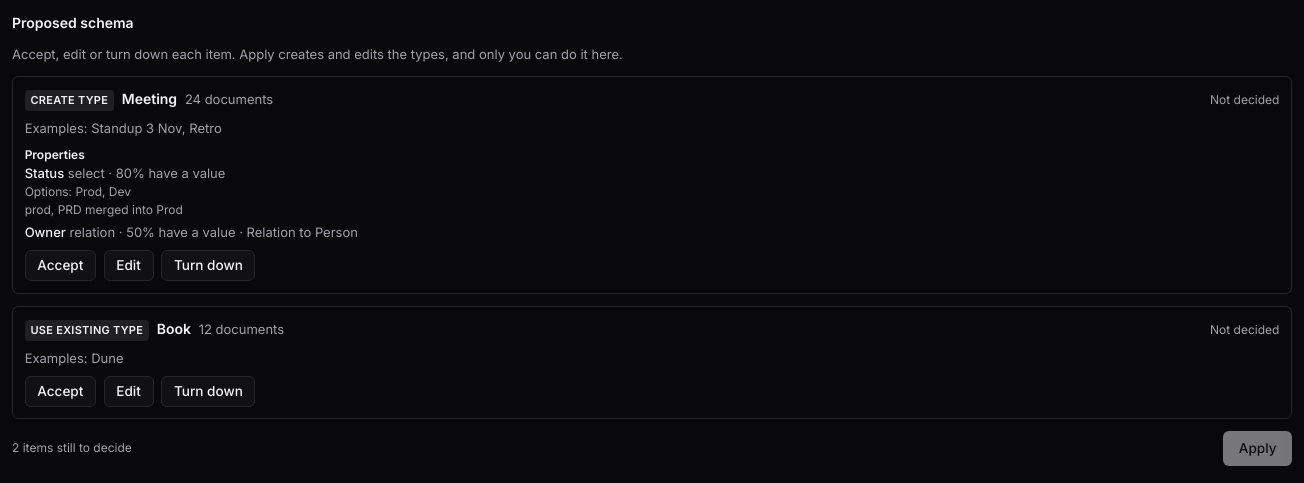
Test: ProposalStep › shows evidence and enables Apply only when every item is decided
The width and height of the screenshot is (1304, 483).
Later steps or results of the test are not shown.
Expected: the button "Apply" is disabled, [1223,431,1292,466]
Click the button "Accept" below "Create type" at x=60, y=266, box [25,250,96,281]
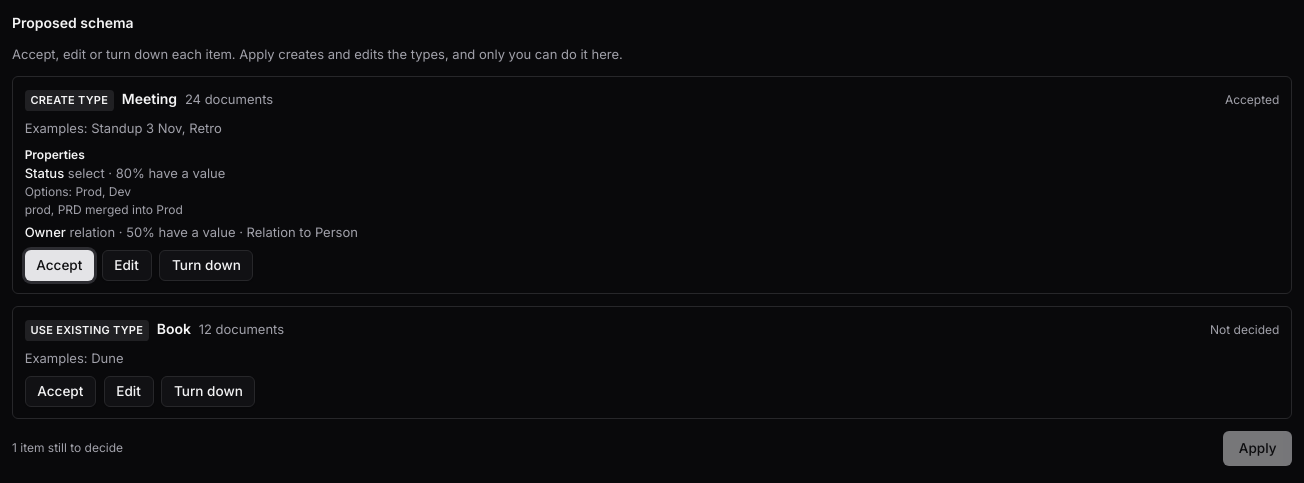
Expected: the button "Apply" is disabled, [1223,431,1292,466]
Click the button "Turn down" below "Use existing type" at x=208, y=391, box [161,376,255,407]
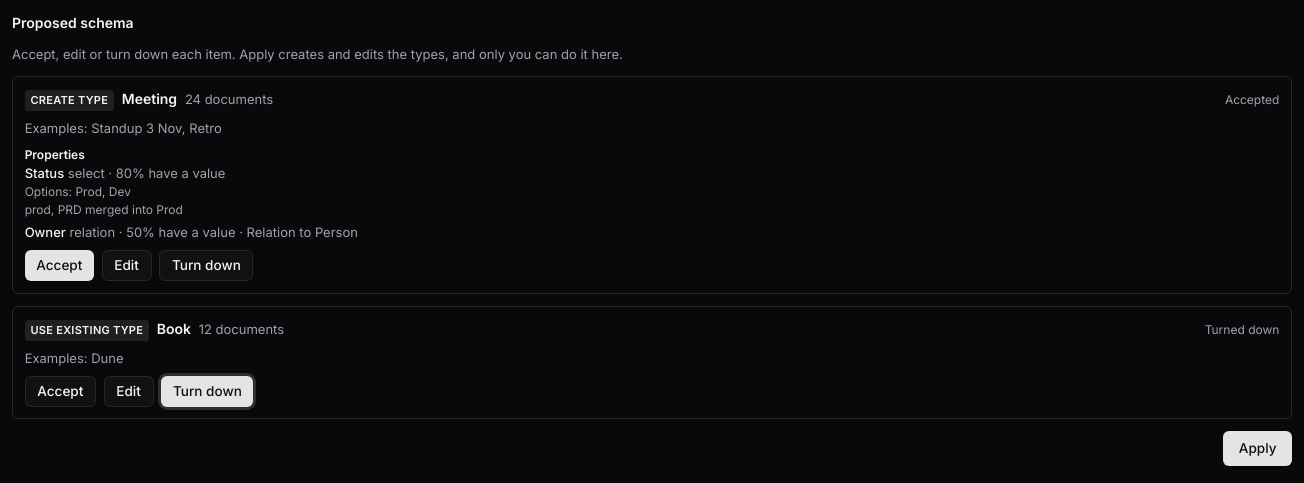
Expected: the button "Apply" is enabled, [1223,431,1292,466]
